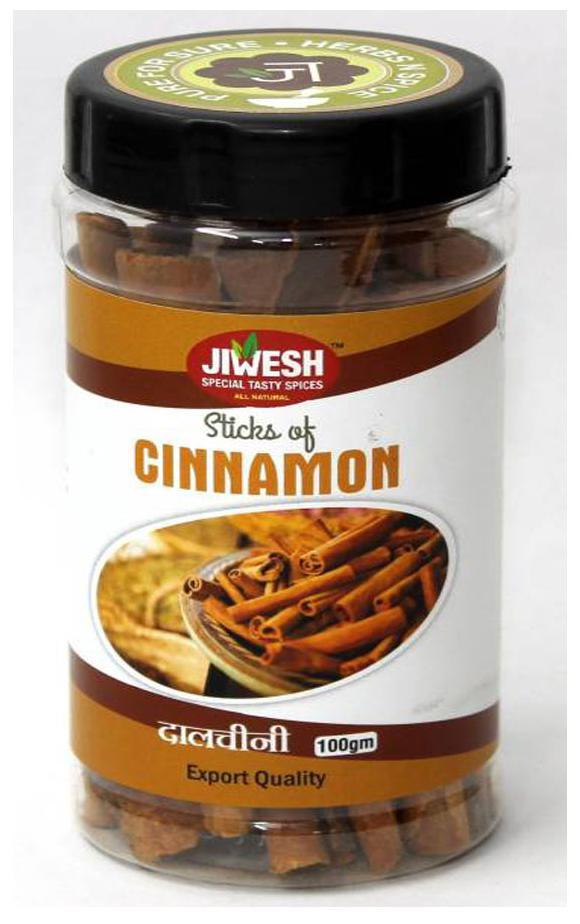JAR: (47, 22, 520, 895)
